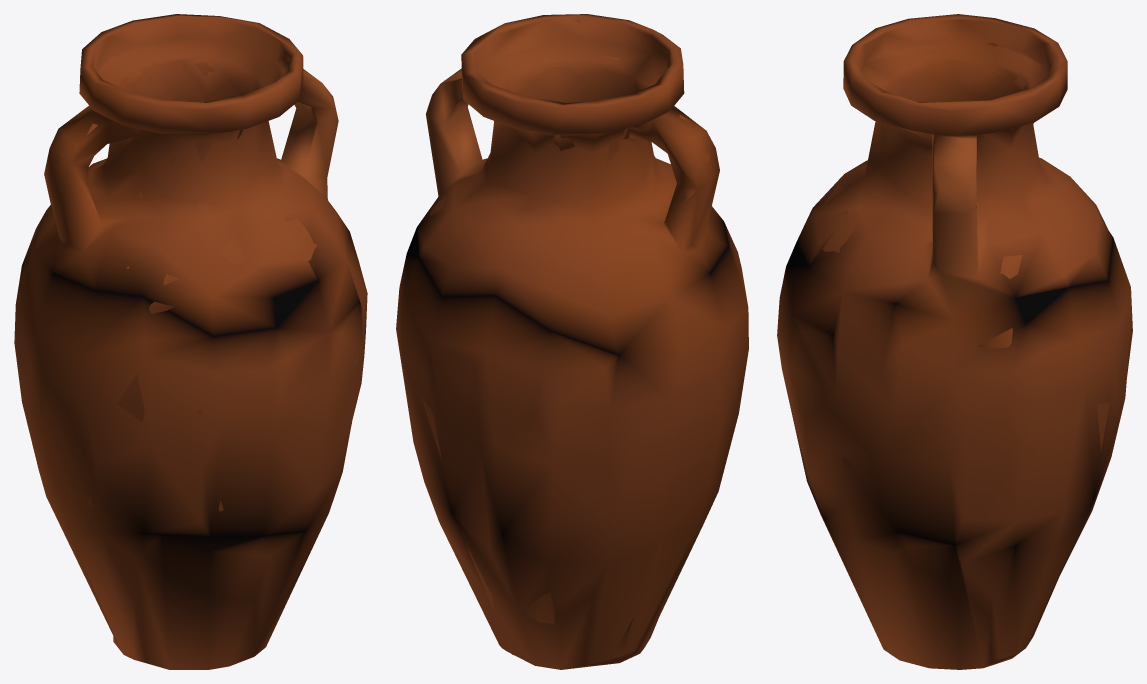
File: gen3d-amphora-lod1.glb
3 views of the same model, side by side, from view 1: azimuth 30°, elevation 25°; view 2: azimuth 150°, elevation 25°; view 3: azimuth 270°, elevation 25° (orthographic).
Visible parts, largest first — view 1: part_0; view 2: part_0; view 3: part_0.
Part boxes in pixels (x1,y1,x2,y2): part_0: (14, 14, 367, 669); part_0: (396, 14, 748, 669); part_0: (777, 14, 1132, 669).
Size of the model in its own units: 0.5545 by 0.9999 by 0.5569.
